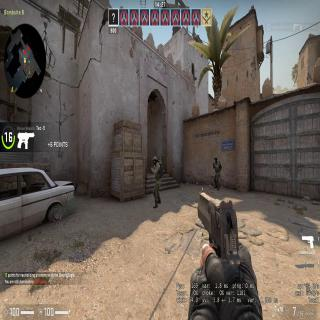CT-Body: (147, 156, 164, 203), (212, 156, 222, 187)
CT-Head: (152, 156, 158, 164), (214, 156, 217, 162)
